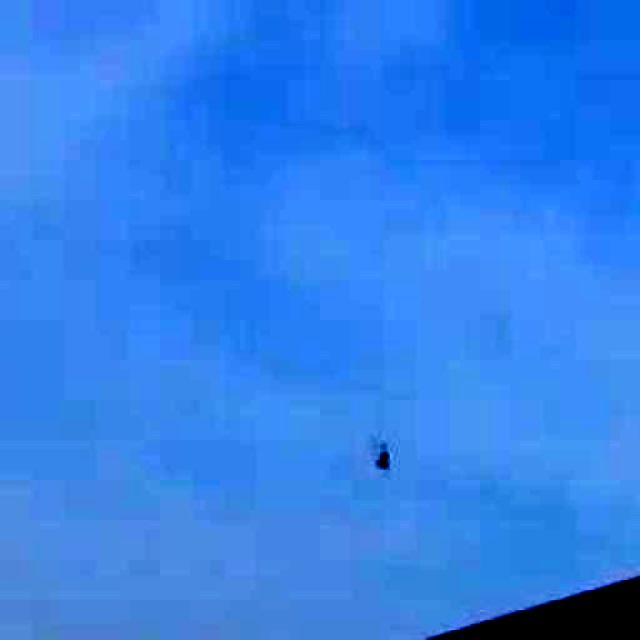drone: (362, 430, 406, 482)
